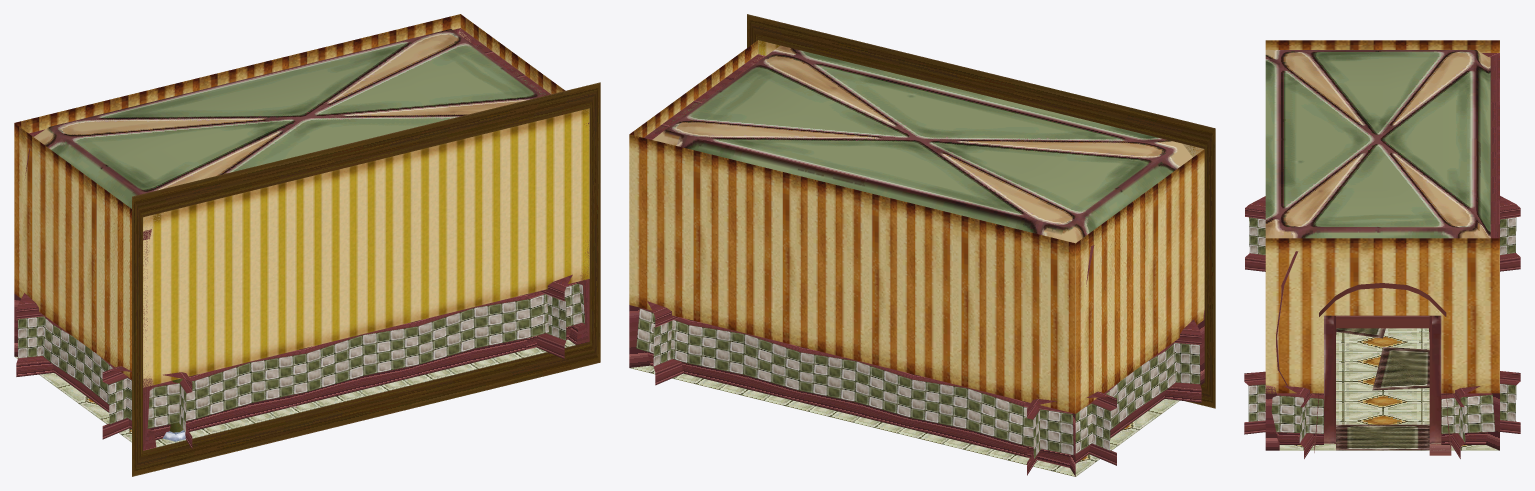
Rendered from room_17.glb.
The picture shows the model from 3 angles, left to right: view 1: azimuth 30°, elevation 25°; view 2: azimuth 150°, elevation 25°; view 3: azimuth 270°, elevation 25°; orthographic projection. The views are drawn at different scales.
Parts seen in each view (by area): view 1: room_17; view 2: room_17; view 3: room_17.
Part boxes in pixels (x1,y1,x2,y2): room_17: (14,14,600,476); room_17: (629,14,1215,476); room_17: (1244,40,1520,458).
Size of the model in its own units: 1089 by 600 by 589.
14 materials, 14 textured.
